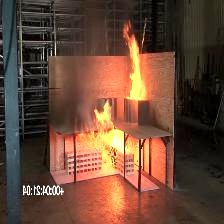fire: (113, 21, 159, 110), (85, 107, 125, 170)
